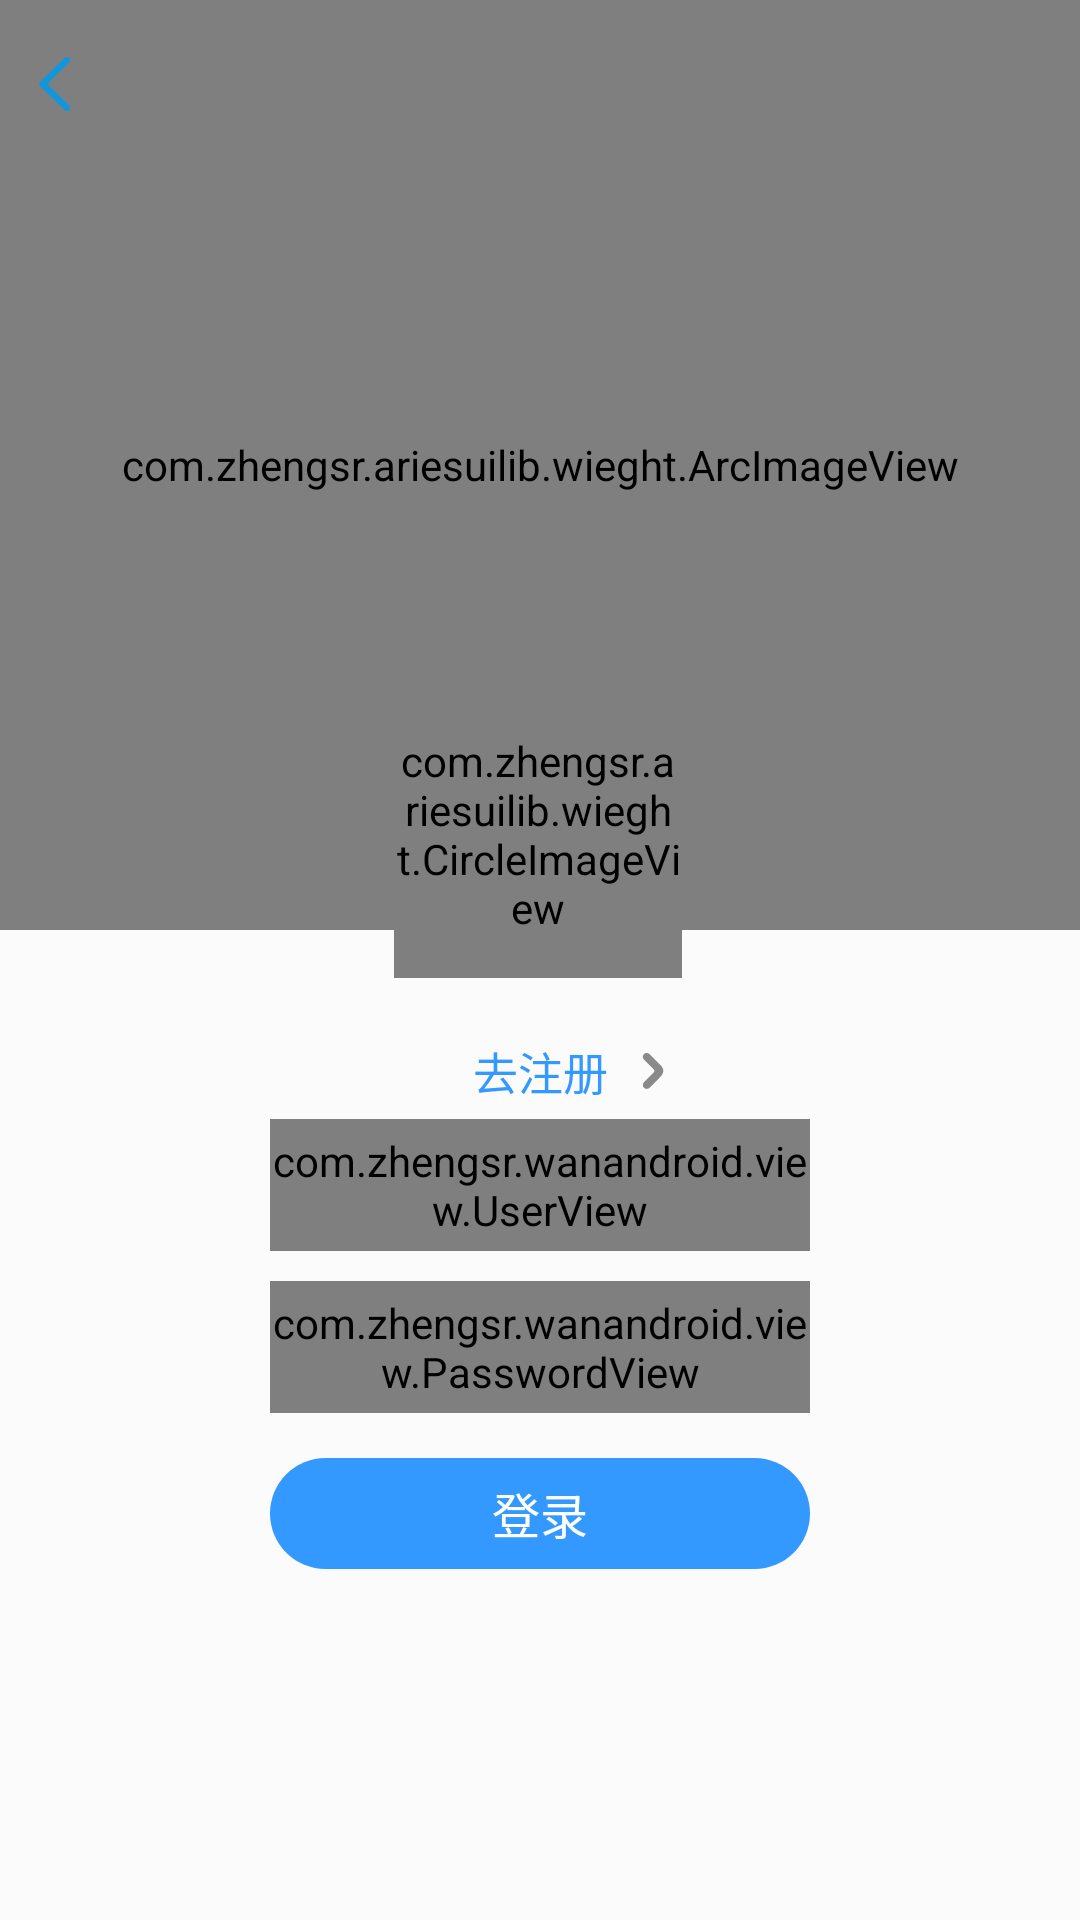

Icons on this 1080 x 1920 Android screen, each with its box as (x1, y1, x2, y2):
back: (39, 57, 71, 111)
next: (643, 1053, 664, 1089)
